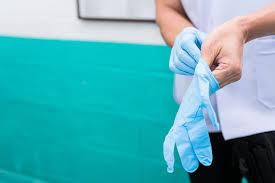Glove: (163, 58, 218, 172), (169, 27, 206, 74)
